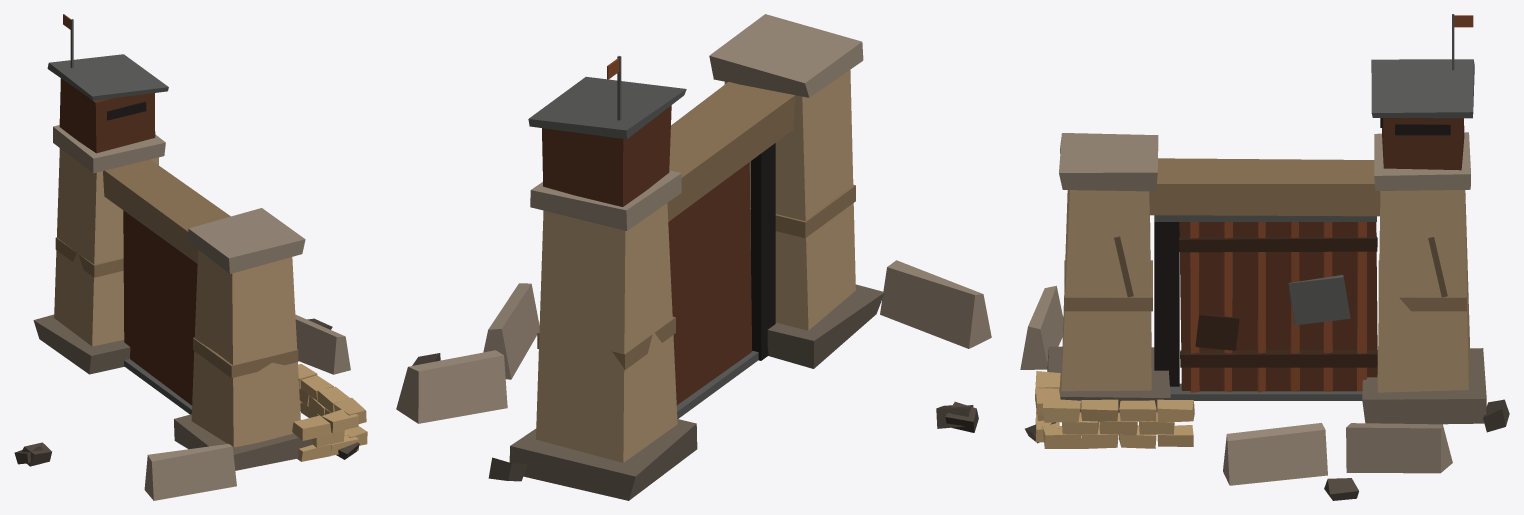
The model's file is lock_gate.glb.
3 renders of one model, left to right at view 1: azimuth 30°, elevation 25°; view 2: azimuth 150°, elevation 25°; view 3: azimuth 270°, elevation 25°, orthographic. The views are drawn at different scales.
Parts seen in each view (by area): view 1: lock_gate; view 2: lock_gate; view 3: lock_gate.
Part boxes in pixels (x1,y1,x2,y2): lock_gate: (14, 14, 367, 500); lock_gate: (396, 14, 991, 500); lock_gate: (1020, 14, 1509, 500).
Size of the model in its own units: 9.67 by 8.21 by 9.66.
